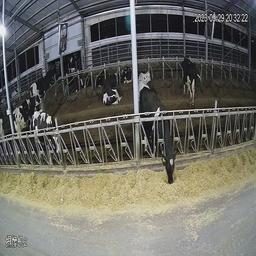cow: (139, 86, 176, 192), (36, 107, 63, 197), (9, 92, 39, 148), (180, 47, 198, 111), (25, 73, 55, 102), (102, 71, 121, 112), (117, 60, 132, 85), (138, 62, 153, 87), (74, 71, 88, 94), (92, 69, 103, 90)
